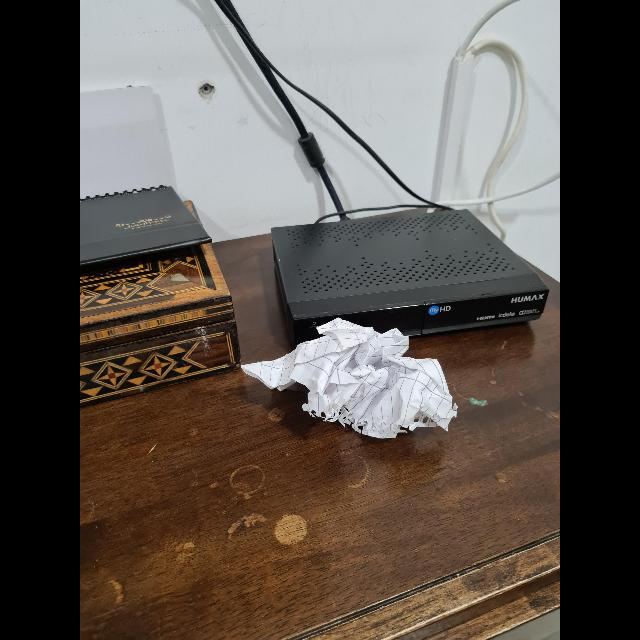trash: (246, 321, 460, 443)
